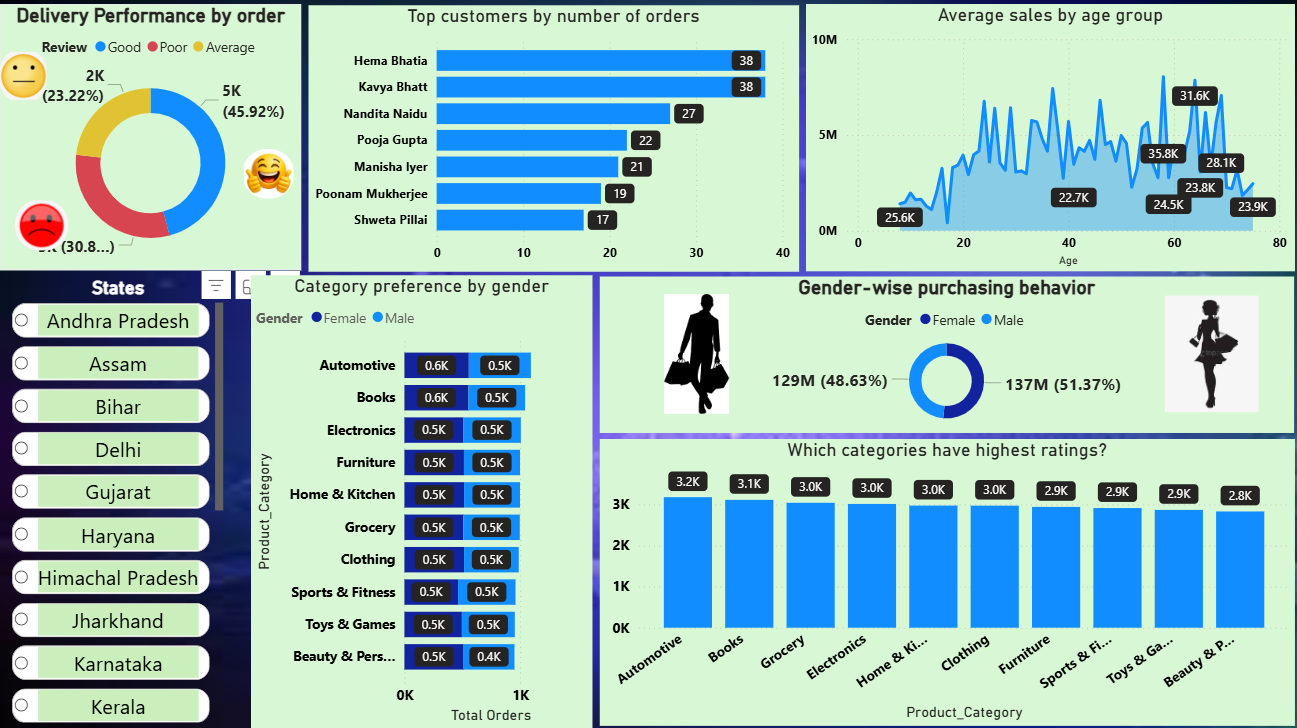

Layout of this report page (visuals, bound fields, positions):
{"tool":"powerbi","page":{"name":"Page 2","canvas":[1280,720],"ordinal":1},"visuals":[{"type":"barChart","title":"Top customers by number of orders","fields":{"Category":["cus_segment.Customer_Name"],"Y":["cus_segment.Total Orders"]},"box":[306.2,6.2,481.2,261.2],"z":0},{"type":"stackedAreaChart","title":"Average sales by age group","fields":{"Category":["cus_segment.Age"],"Y":["Sum(cus_segment.Amount_of_Product)"]},"box":[795.1,4.9,479.8,262.6],"z":1000},{"type":"donutChart","title":"Gender-wise purchasing behavior","fields":{"Category":["cus_segment.Gender"],"Y":["Sum(cus_segment.Amount_of_Product)"]},"box":[592.5,272.5,681.2,153.8],"z":2000},{"type":"columnChart","title":"Which categories have highest ratings?","fields":{"Category":["cus_segment.Product_Category"],"Y":["Sum(cus_segment.Rating)"]},"box":[592.5,432.5,682.5,281.2],"z":3000},{"type":"pieChart","title":"Delivery Performance by order","fields":{"Category":["cus_segment.Review"],"Y":["cus_segment.Total Orders"]},"box":[3.8,5,296.2,261.2],"z":4000},{"type":"image","box":[640.5,289.6,94.5,117.8],"z":5000},{"type":"image","box":[1147.2,289.6,92,117.8],"z":6000},{"type":"barChart","title":"Category preference by gender","fields":{"Category":["cus_segment.Product_Category"],"Series":["cus_segment.Gender"],"Y":["cus_segment.Total Orders"]},"box":[250,271.2,335,445],"z":7000},{"type":"image","box":[241.2,147.5,51.2,48.8],"z":8000},{"type":"image","box":[18.8,196.2,52.5,51.2],"z":9000},{"type":"image","box":[3.8,47.5,46.2,55],"z":10000},{"type":"listSlicer","title":"States","fields":{"Values":["cus_segment.State"]},"box":[11.2,272.5,217.5,443.8],"z":11000}]}

Visuals, with their boxes in screenshot pixels (x1, y1, x2, y2), scaled from the page's 1280x720 canvas onto the 1297x728 screenshot:
"Top customers by number of orders" barChart: [left=310, top=6, right=798, bottom=270]
"Average sales by age group" stackedAreaChart: [left=806, top=5, right=1292, bottom=270]
"Gender-wise purchasing behavior" donutChart: [left=600, top=276, right=1291, bottom=431]
"Which categories have highest ratings?" columnChart: [left=600, top=437, right=1292, bottom=722]
"Delivery Performance by order" pieChart: [left=4, top=5, right=304, bottom=269]
image: [left=649, top=293, right=745, bottom=412]
image: [left=1162, top=293, right=1256, bottom=412]
"Category preference by gender" barChart: [left=253, top=274, right=593, bottom=724]
image: [left=244, top=149, right=296, bottom=198]
image: [left=19, top=198, right=72, bottom=250]
image: [left=4, top=48, right=51, bottom=104]
"States" listSlicer: [left=11, top=276, right=232, bottom=724]
